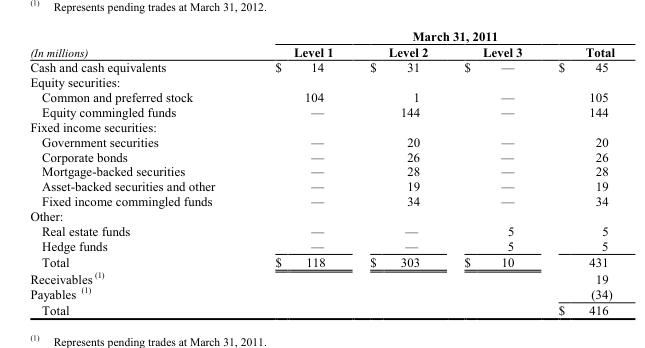table: (29, 28, 614, 316)
table column: (29, 28, 244, 316), (244, 28, 350, 316), (350, 28, 445, 316), (445, 28, 539, 316), (539, 28, 614, 316)
table column header: (29, 28, 614, 59)
table projected row header: (29, 74, 614, 89), (29, 208, 614, 223), (29, 119, 614, 133)
table row: (29, 43, 614, 59), (29, 237, 614, 253), (29, 253, 614, 269), (29, 269, 614, 285), (29, 285, 614, 301), (29, 28, 614, 43), (29, 59, 614, 74), (29, 74, 614, 89), (29, 89, 614, 104), (29, 104, 614, 119), (29, 133, 614, 148), (29, 148, 614, 163), (29, 163, 614, 178), (29, 178, 614, 193), (29, 193, 614, 208), (29, 208, 614, 223), (29, 301, 614, 316), (29, 119, 614, 133), (29, 223, 614, 237)
table spanning cell: (29, 28, 244, 59), (244, 28, 614, 43)
